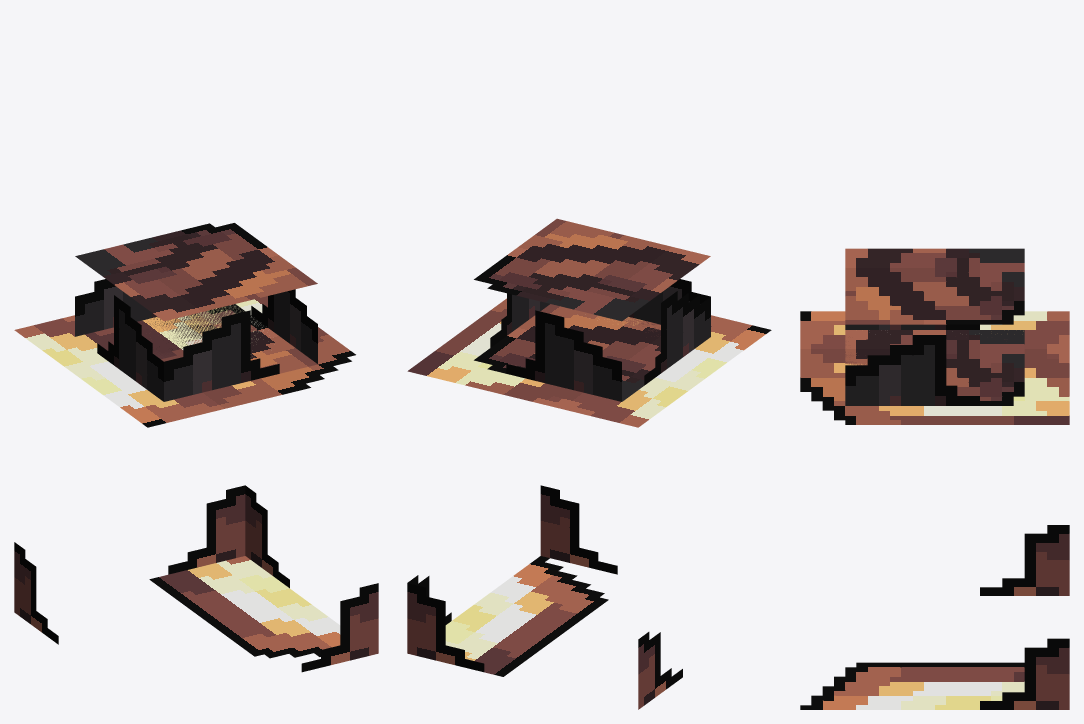
File: lantern.fbx
3 views of the same model, side by side, from view 1: azimuth 30°, elevation 25°; view 2: azimuth 150°, elevation 25°; view 3: azimuth 270°, elevation 25° (orthographic).
Visible parts, largest first — view 1: lantern; view 2: lantern; view 3: lantern.
Boxes of the visible parts, x1,y1,x2,y2 form: lantern: (14,223,378,672); lantern: (407,218,771,709); lantern: (800,248,1069,709).
Bounding box in the file's own units: 37.5 × 37.5 × 93.75.
